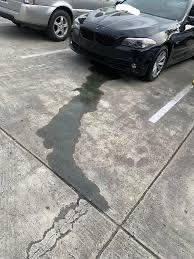water accumulation: (37, 65, 119, 212)
